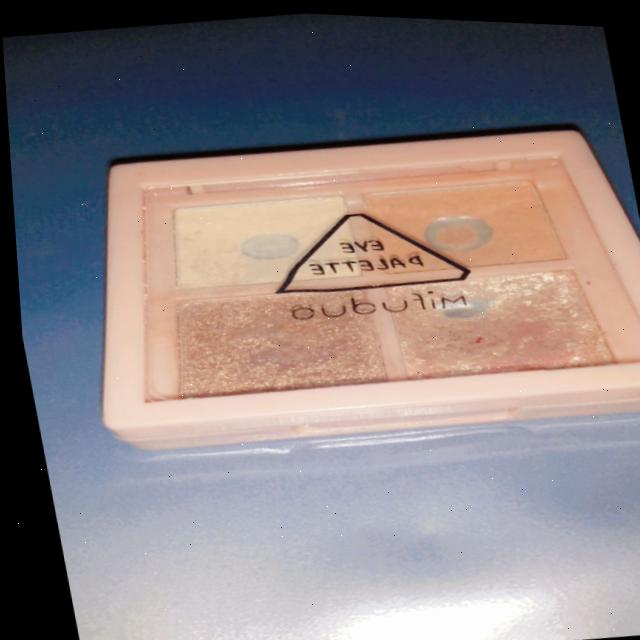highlighter: (351, 247, 639, 391), (123, 265, 397, 414), (332, 152, 592, 300), (138, 173, 369, 316)
